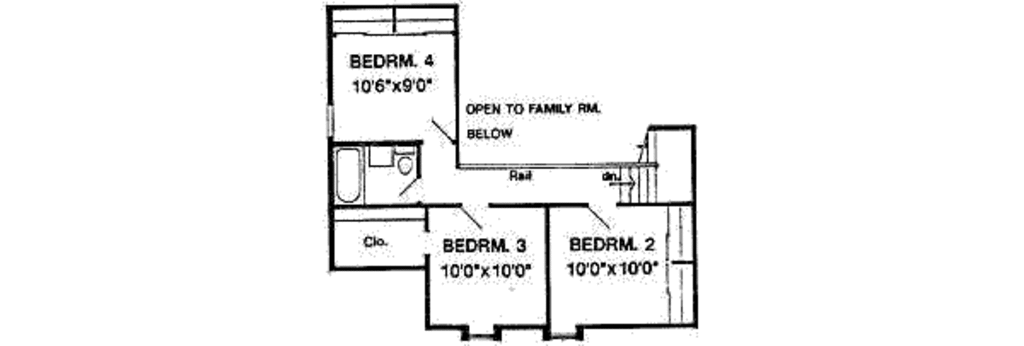large_sink: (389, 138, 418, 182)
stairs: (608, 122, 696, 202), (324, 2, 461, 53), (662, 209, 699, 327)
tub: (338, 145, 367, 207)
window: (455, 314, 503, 345), (543, 326, 586, 346)
